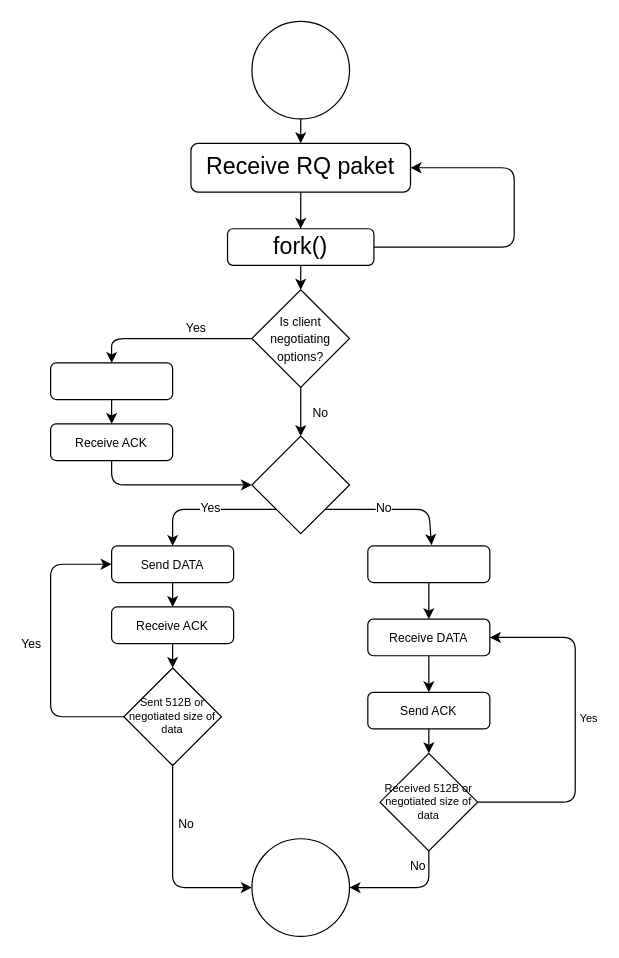
Some shapes in this 619 by 958 pixel diagram are drawn without their labels. The box of each missing label's shape, as (x1, y1, x2, y2) in pixels:
End: (251, 838, 350, 936)
Is it download?: (251, 435, 350, 534)
Send ACK if haven't sent OACK: (367, 545, 490, 583)
Send OACK: (49, 362, 173, 400)
Start: (251, 20, 350, 119)
